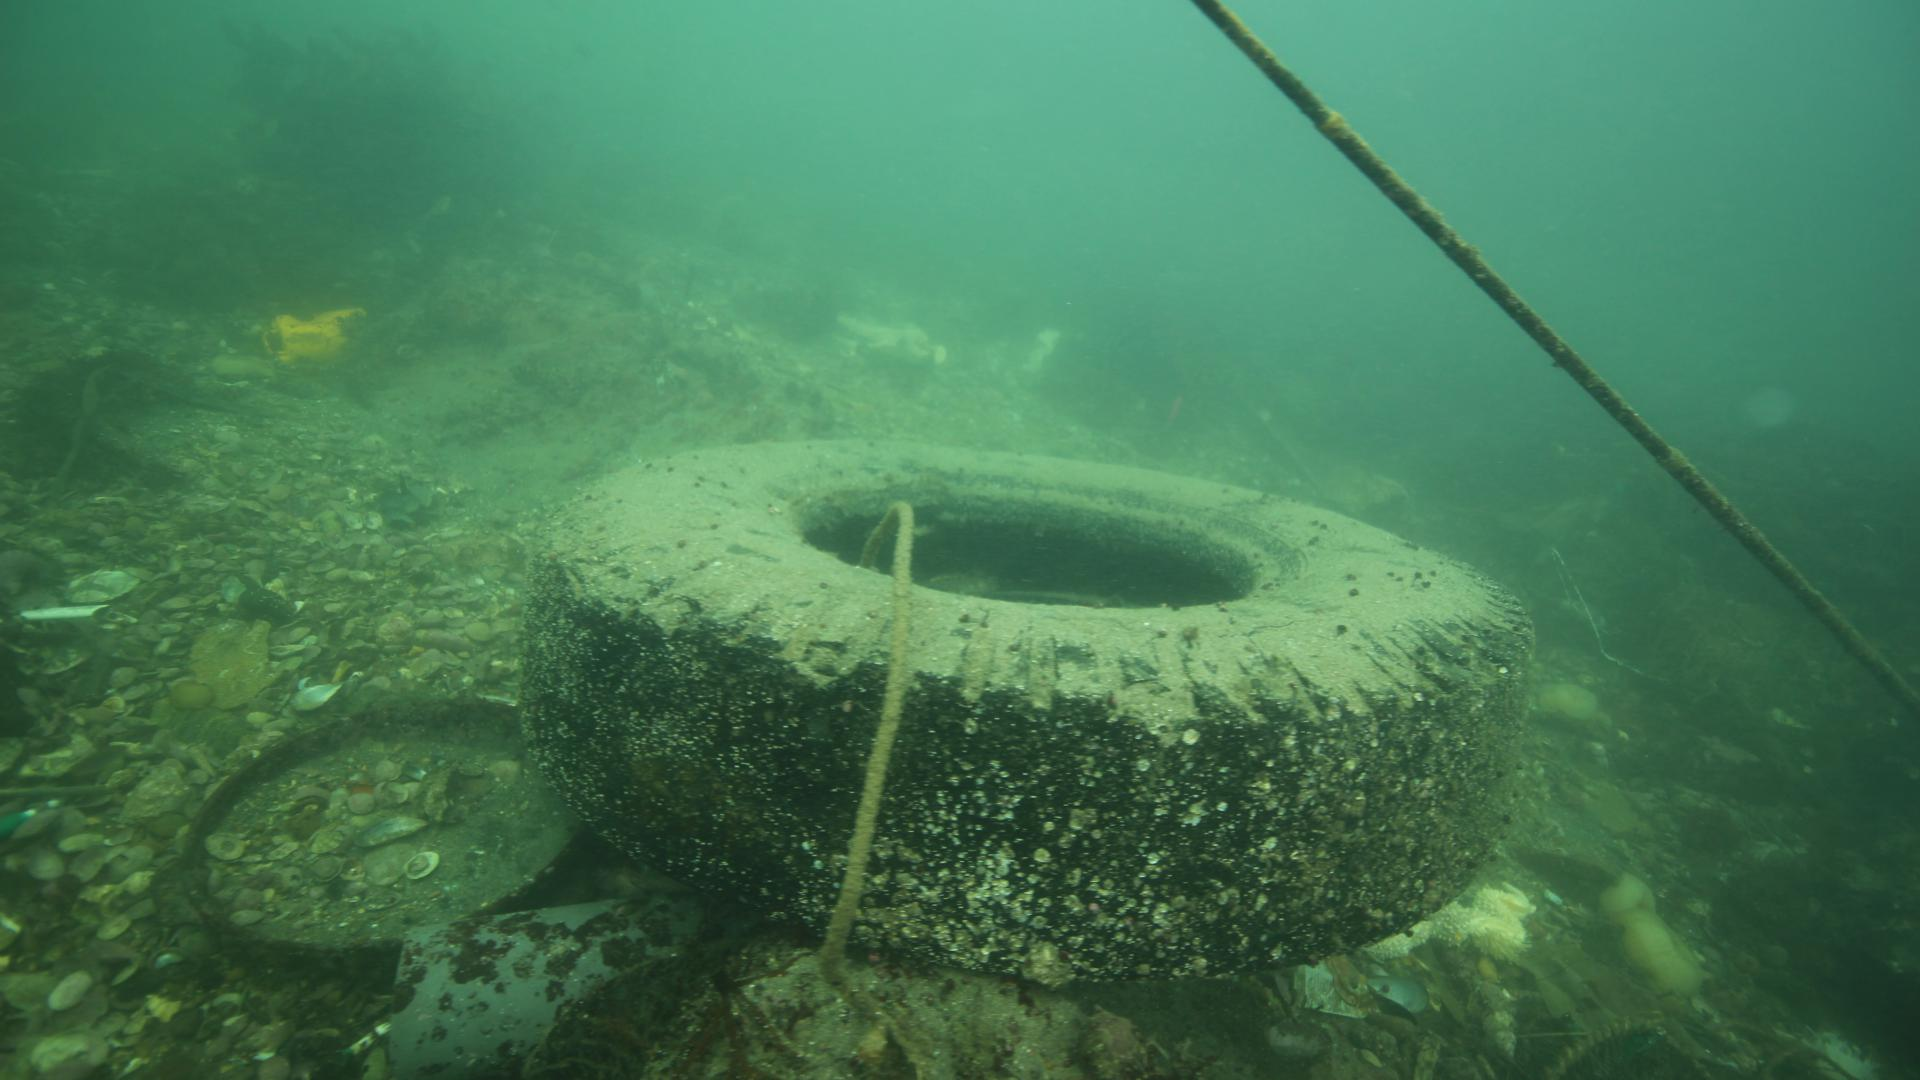rope: (808, 495, 920, 993)
tire: (516, 433, 1542, 986)
